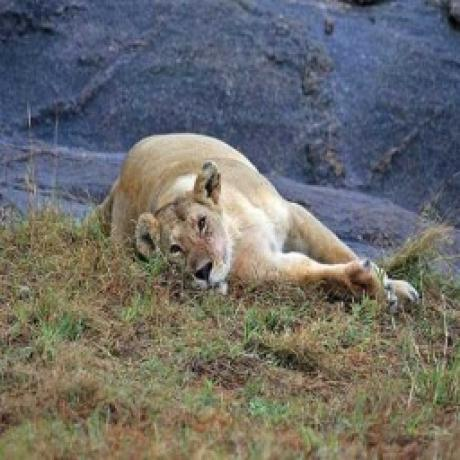Lion: (92, 129, 418, 313)
